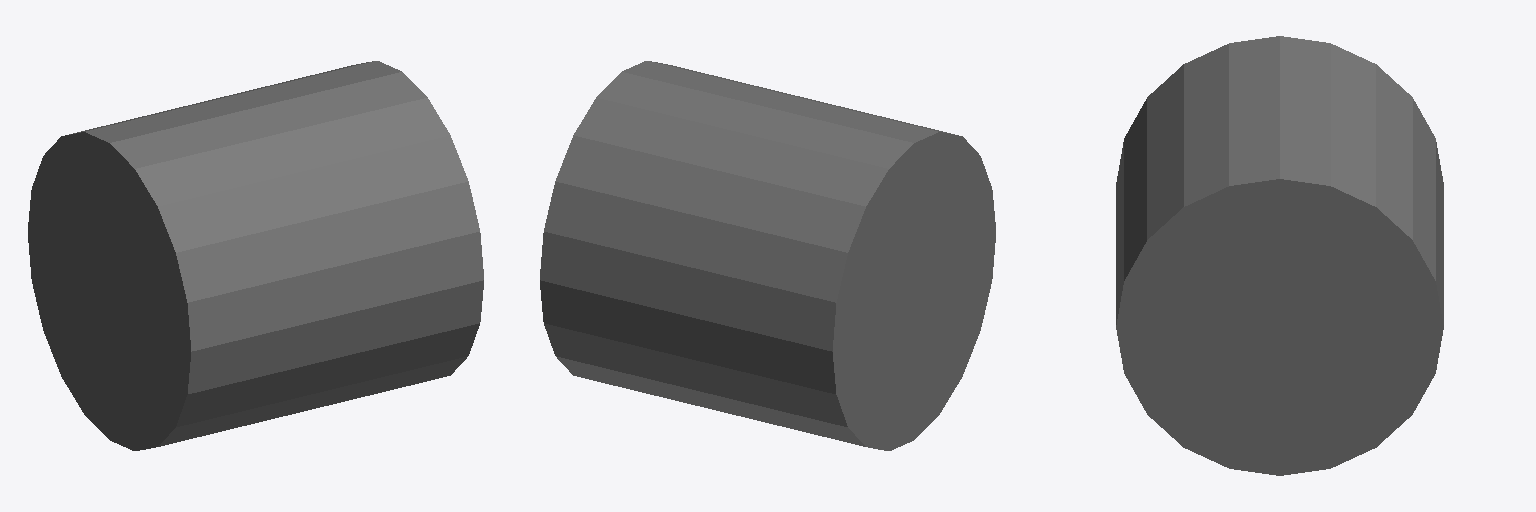
The model's file is MachineUpgradeBLOCKOUT.obj.
The picture shows the model from 3 angles: view 1: azimuth 30°, elevation 25°; view 2: azimuth 150°, elevation 25°; view 3: azimuth 270°, elevation 25°; orthographic projection.
Visible parts, largest first — view 1: MachineUpgradeBLOCKOUT; view 2: MachineUpgradeBLOCKOUT; view 3: MachineUpgradeBLOCKOUT.
Boxes of the visible parts, x1=… form: MachineUpgradeBLOCKOUT: x1=28, y1=61, x2=483, y2=450; MachineUpgradeBLOCKOUT: x1=540, y1=61, x2=995, y2=450; MachineUpgradeBLOCKOUT: x1=1116, y1=36, x2=1443, y2=475.
Size of the model in its own units: 1.13 by 1.09 by 1.09.